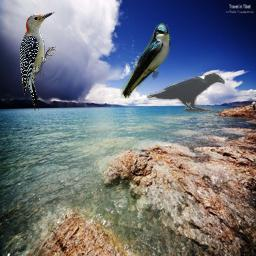Crow: (146, 72, 225, 112)
Swallow: (120, 23, 171, 101)
Woodpecker: (20, 10, 56, 114)
